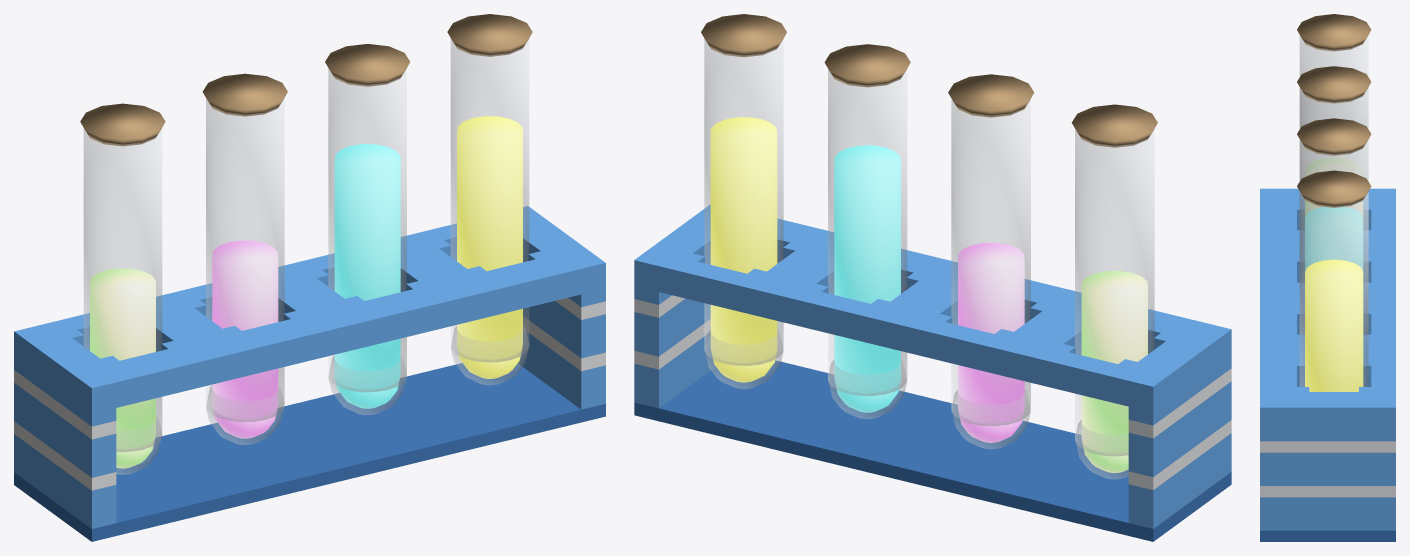
The model's file is L03_TestTube_Rack_Giant.glb.
3 views of the same model, side by side, from view 1: azimuth 30°, elevation 25°; view 2: azimuth 150°, elevation 25°; view 3: azimuth 270°, elevation 25° (orthographic). The views are drawn at different scales.
Visible parts, largest first — view 1: L03_TestTube_Rack_Giant_Mesh; view 2: L03_TestTube_Rack_Giant_Mesh; view 3: L03_TestTube_Rack_Giant_Mesh.
Part boxes in pixels (<box>): L03_TestTube_Rack_Giant_Mesh: <box>14,14,605,541</box>; L03_TestTube_Rack_Giant_Mesh: <box>634,14,1231,541</box>; L03_TestTube_Rack_Giant_Mesh: <box>1260,14,1395,541</box>.
Bounding box in the file's own units: 4.2 × 2.9 × 1.1.
